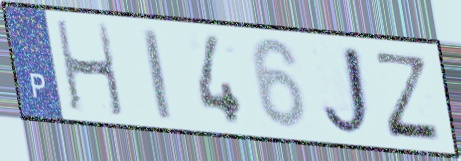4: (196, 32, 247, 127)
6: (248, 35, 313, 136)
H: (52, 17, 128, 120)
I: (138, 25, 176, 123)
J: (319, 41, 379, 141)
Z: (372, 49, 444, 144)
